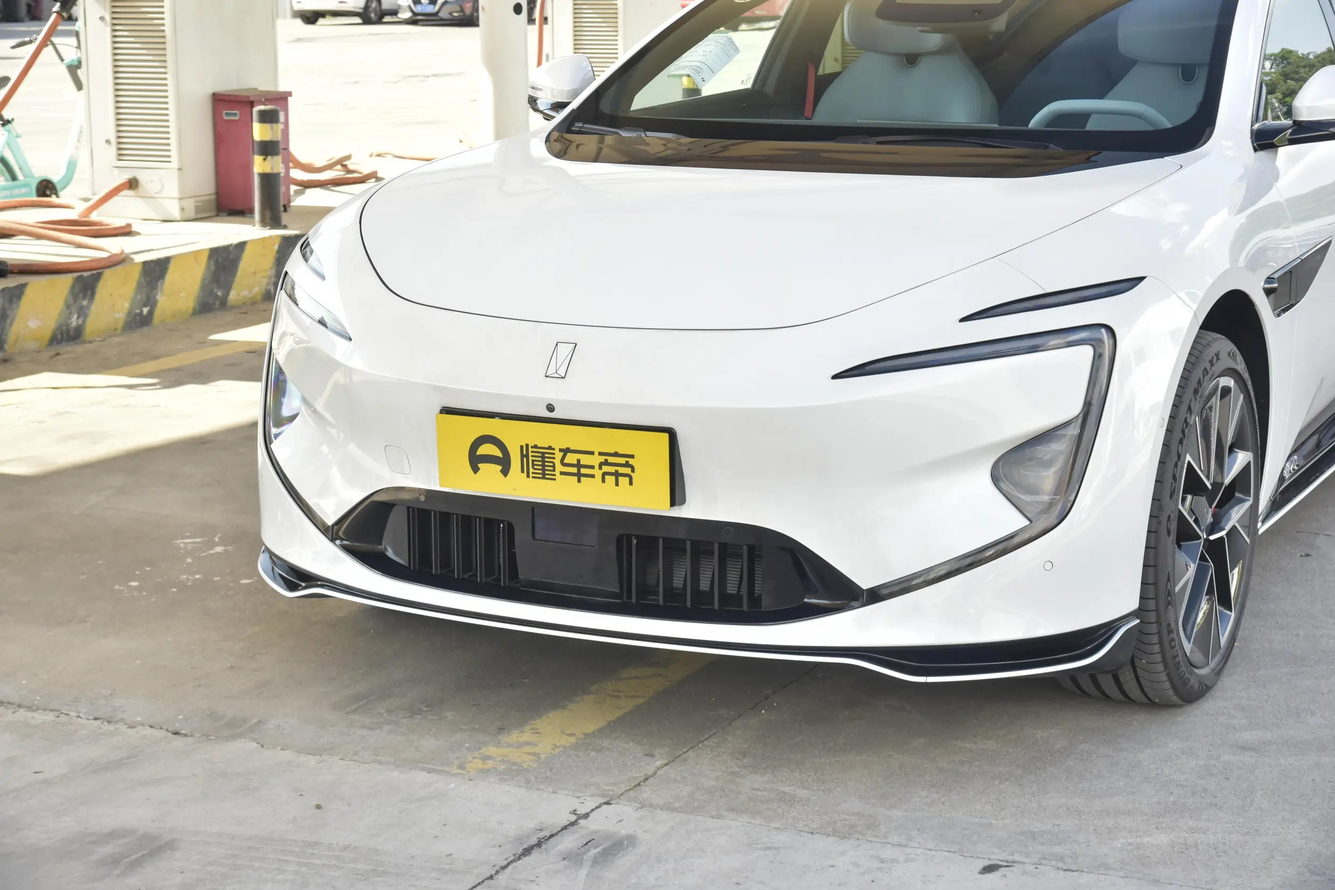AVATR: (545, 342, 576, 378)
